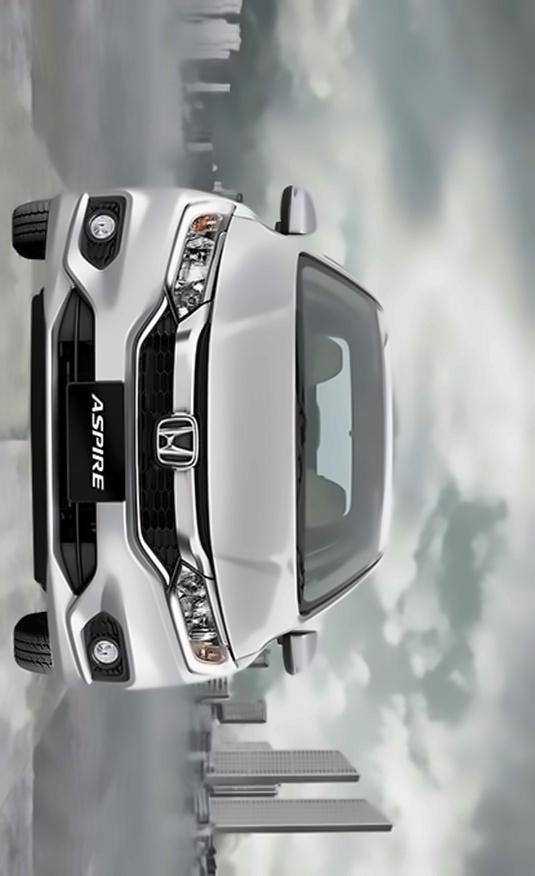Car hood: (203, 186, 307, 699)
Front bumper: (30, 173, 169, 697)
Headlight - -L-: (155, 548, 244, 690)
Headlight - -R-: (155, 195, 244, 334)
Side mirror - -L-: (270, 613, 337, 701)
Side mirror - -R-: (270, 163, 325, 268)
